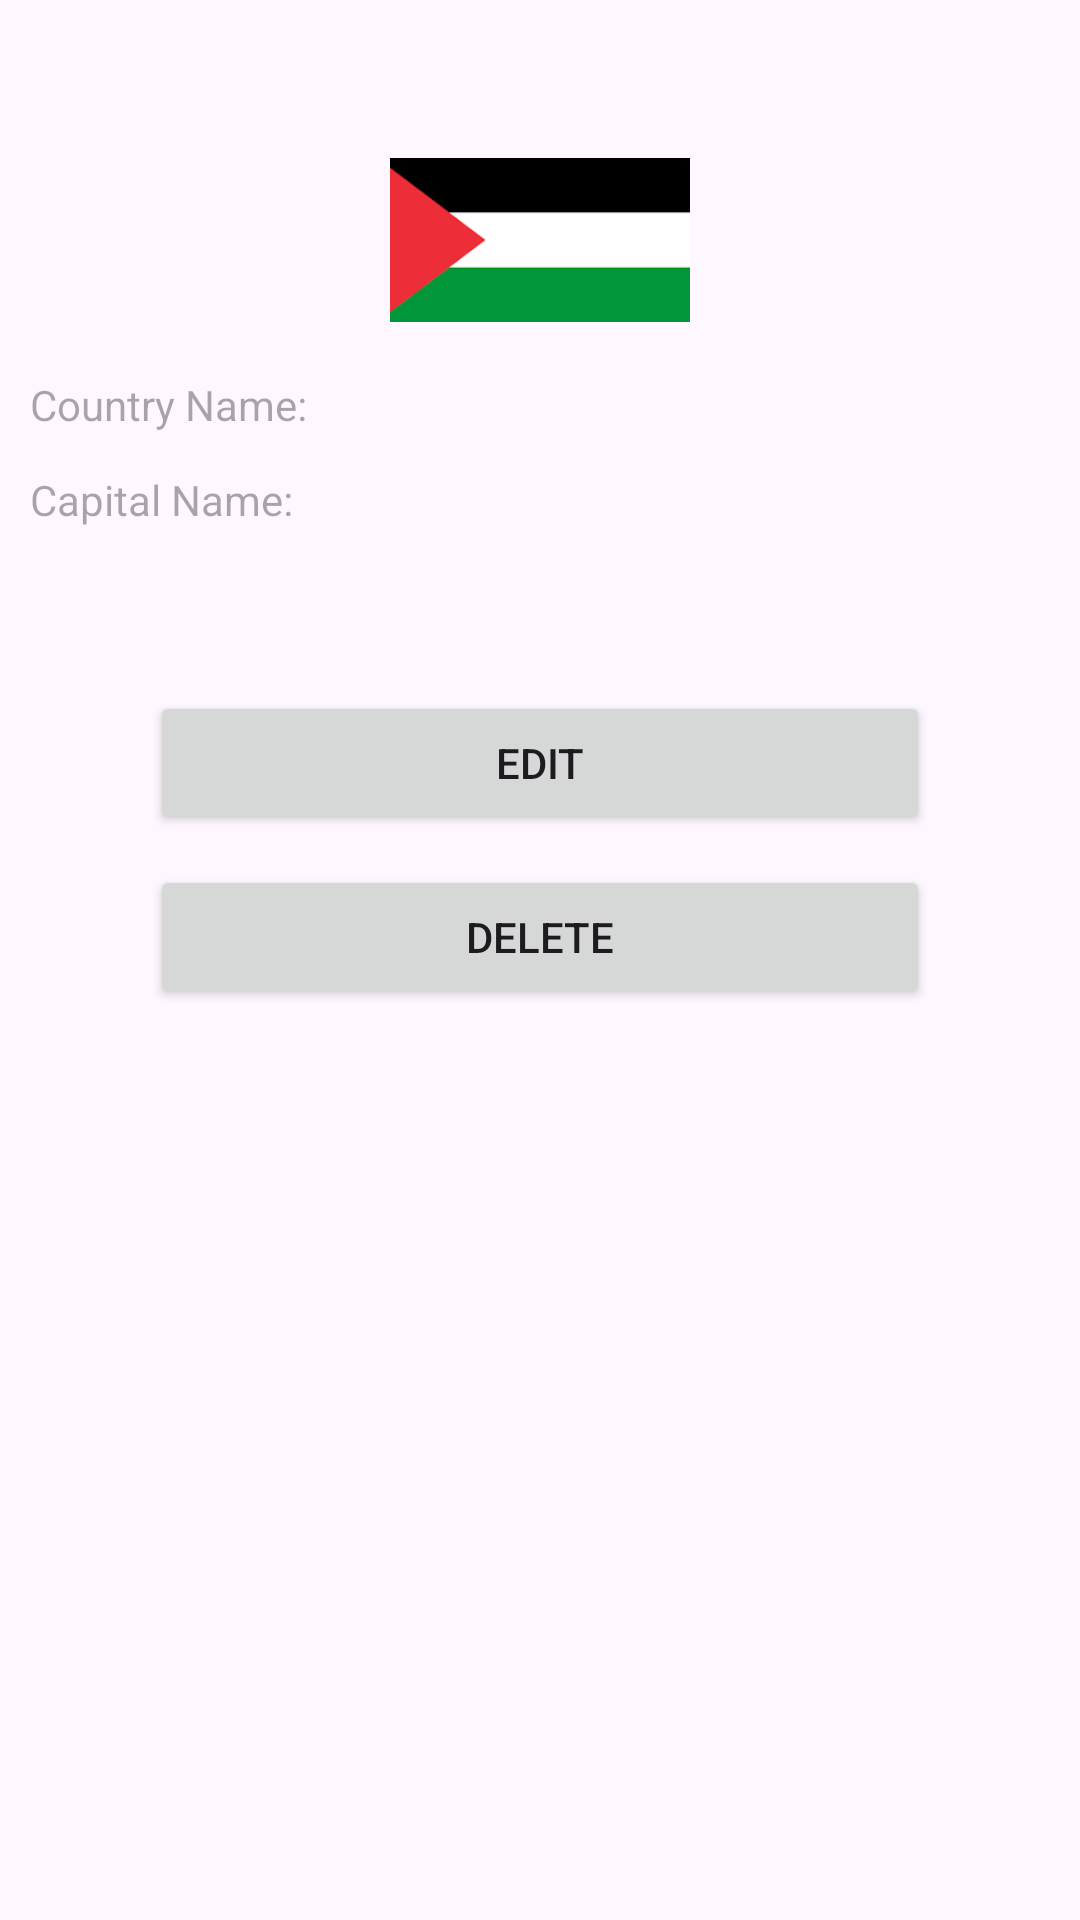

Icon bounding boxes for this 1080 × 1920 phone screenshot, format (x1, y1, x2, y2):
flag palestine: (390, 158, 690, 322)
